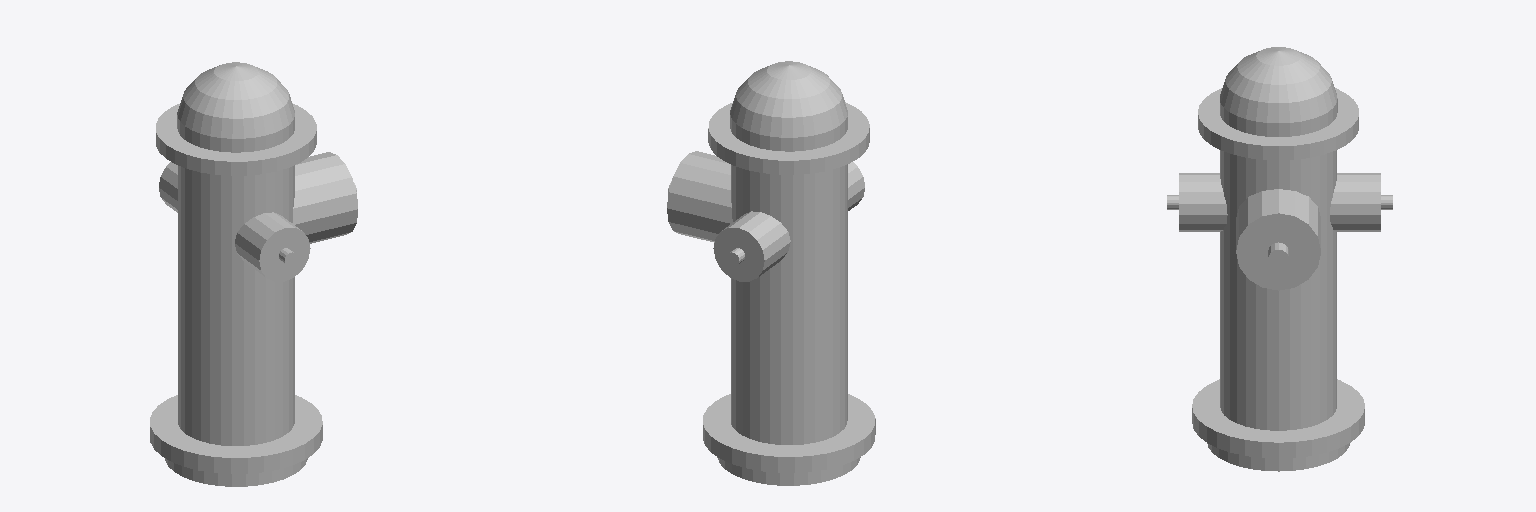
Rendered from hydrant_02.obj.
3 renders of one model, left to right at view 1: azimuth 30°, elevation 25°; view 2: azimuth 150°, elevation 25°; view 3: azimuth 270°, elevation 25°, orthographic.
Visible parts, largest first — view 1: Hydrant; view 2: Hydrant; view 3: Hydrant.
Part boxes in pixels (x1,y1,x2,y2): Hydrant: (150, 62, 357, 486); Hydrant: (667, 61, 875, 485); Hydrant: (1167, 47, 1392, 471).
Bounding box in the file's own units: 1.76 × 3.43 × 1.8.